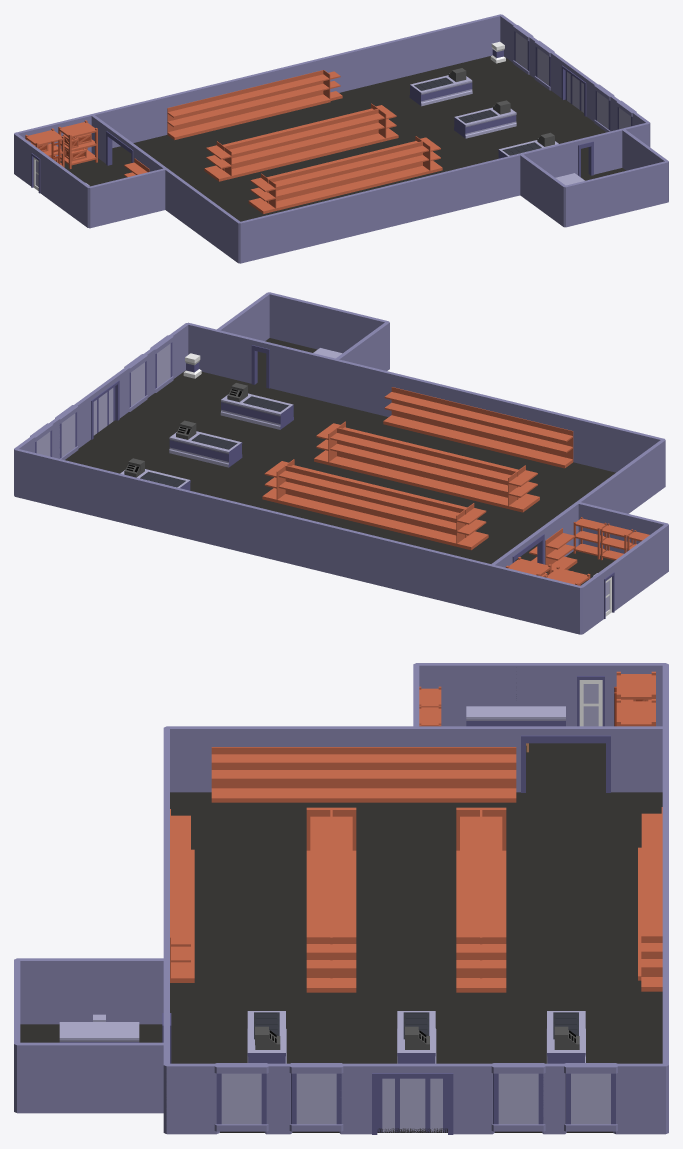
The model's file is Store.dae.
3 views of the same model, one above another, from view 1: azimuth 30°, elevation 25°; view 2: azimuth 150°, elevation 25°; view 3: azimuth 270°, elevation 25° (orthographic). The views are drawn at different scales.
Visible parts, largest first — view 1: store; view 2: store; view 3: store.
Boxes of the visible parts, x1,y1,x2,y2 form: store: [14, 14, 668, 263]; store: [14, 292, 668, 634]; store: [14, 663, 668, 1134].
Size of the model in its own units: 19.19 by 1.5 by 13.12.
